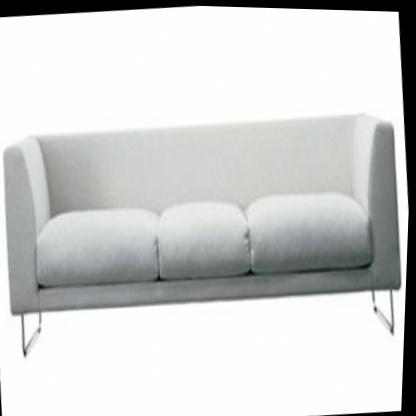Sofa: (0, 102, 413, 366)
